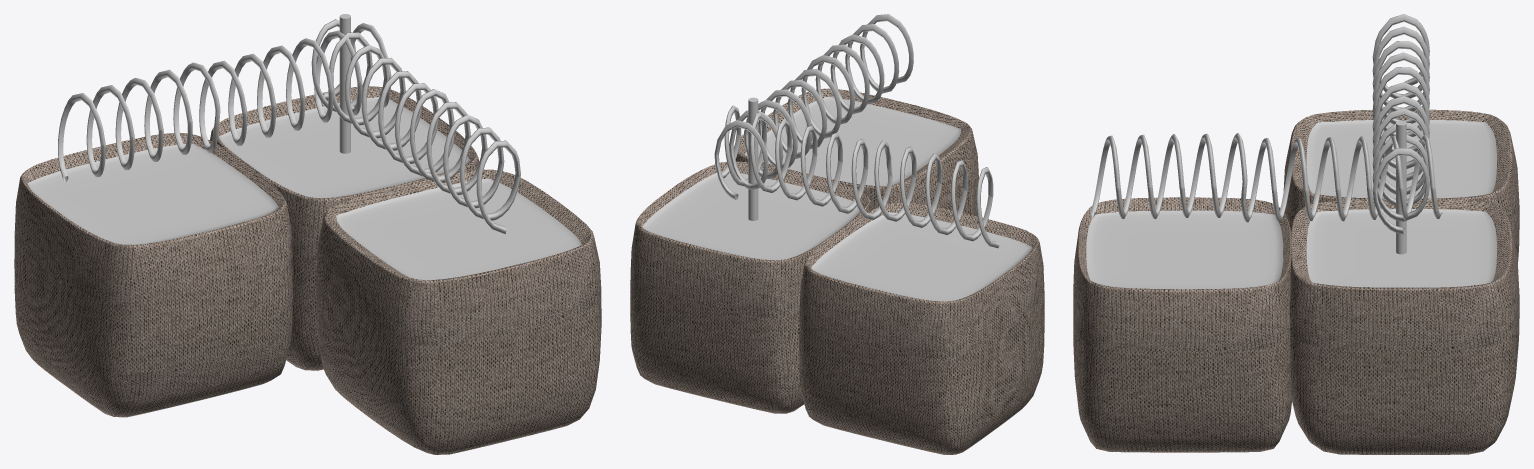
File: CORNER_FENCE.fbx
The picture shows the model from 3 angles, left to right: view 1: azimuth 30°, elevation 25°; view 2: azimuth 150°, elevation 25°; view 3: azimuth 270°, elevation 25°; orthographic projection. The views are drawn at different scales.
Parts seen in each view (by area): view 1: CORNER_FENCE_GRP2; view 2: CORNER_FENCE_GRP2; view 3: CORNER_FENCE_GRP2.
Part boxes in pixels (x1,y1,x2,y2): CORNER_FENCE_GRP2: (14,14,601,454); CORNER_FENCE_GRP2: (630,14,1044,454); CORNER_FENCE_GRP2: (1073,14,1519,454).
Size of the model in its own units: 8.36 by 6.2 by 8.46.
